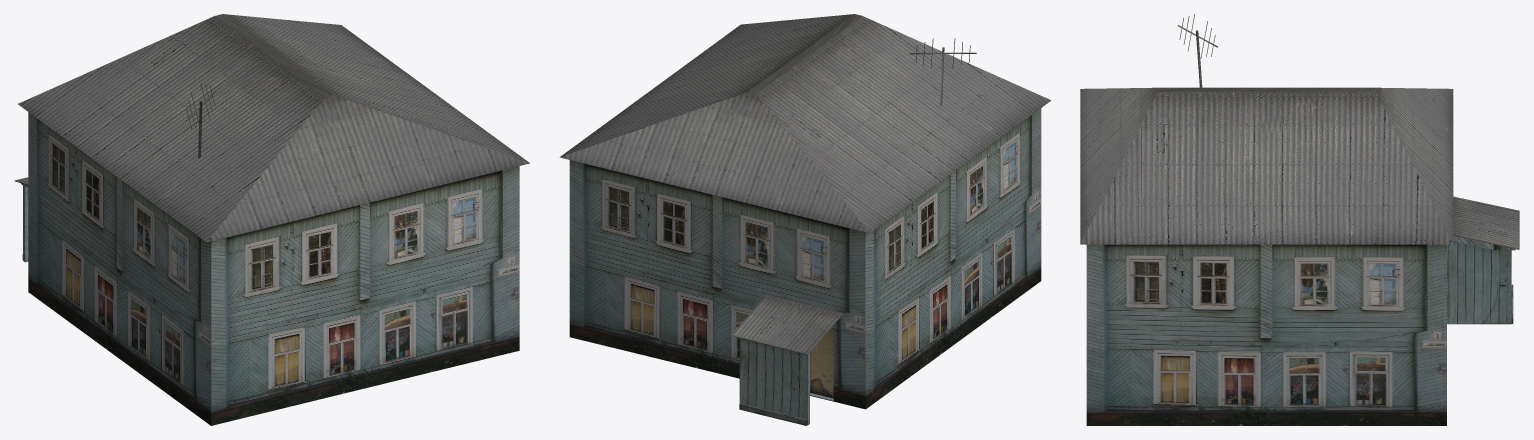
File: d_dom_2et_17.FBX
3 renders of one model, left to right at view 1: azimuth 30°, elevation 25°; view 2: azimuth 150°, elevation 25°; view 3: azimuth 270°, elevation 25°, orthographic. The views are drawn at different scales.
Visible parts, largest first — view 1: d_dom_2et_17; view 2: d_dom_2et_17; view 3: d_dom_2et_17.
Part boxes in pixels (x1,y1,x2,y2): d_dom_2et_17: (14, 14, 529, 425); d_dom_2et_17: (559, 14, 1051, 425); d_dom_2et_17: (1080, 14, 1519, 425).
Bounding box in the file's own units: 9.5 × 11.31 × 7.99.
